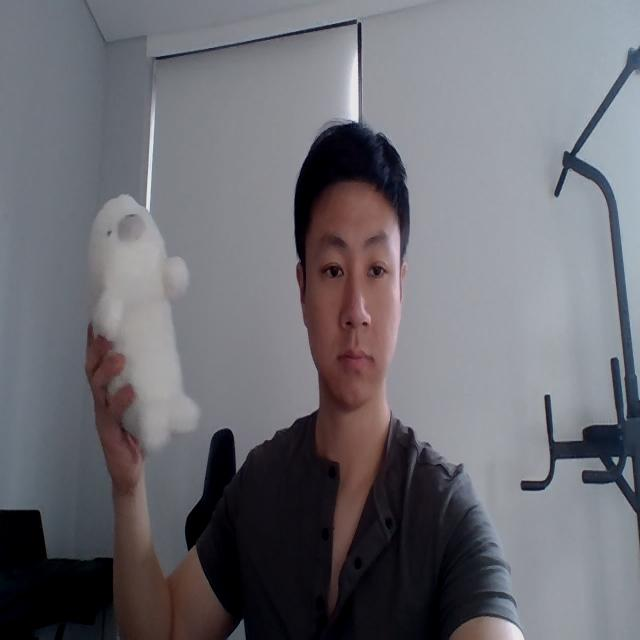seal_bb: (89, 193, 200, 456)
